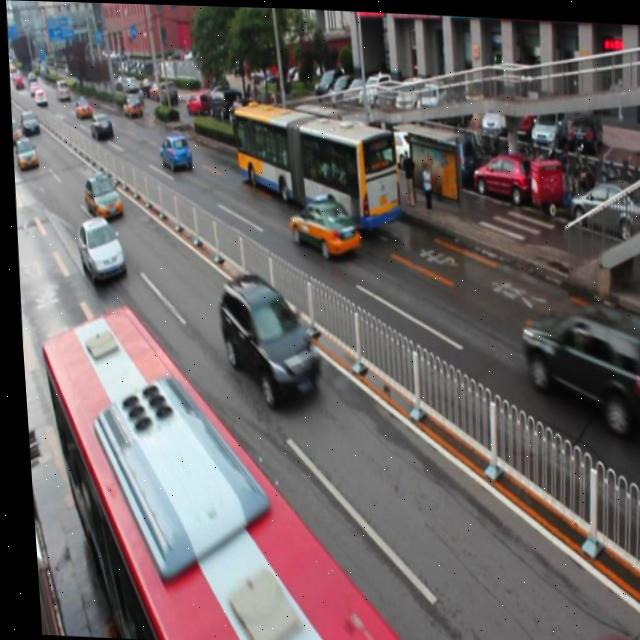car: (511, 294, 640, 436), (211, 272, 319, 405), (284, 192, 359, 258), (73, 214, 123, 282), (80, 170, 121, 220), (157, 132, 191, 170)
van: (29, 301, 430, 640), (228, 96, 401, 232)
